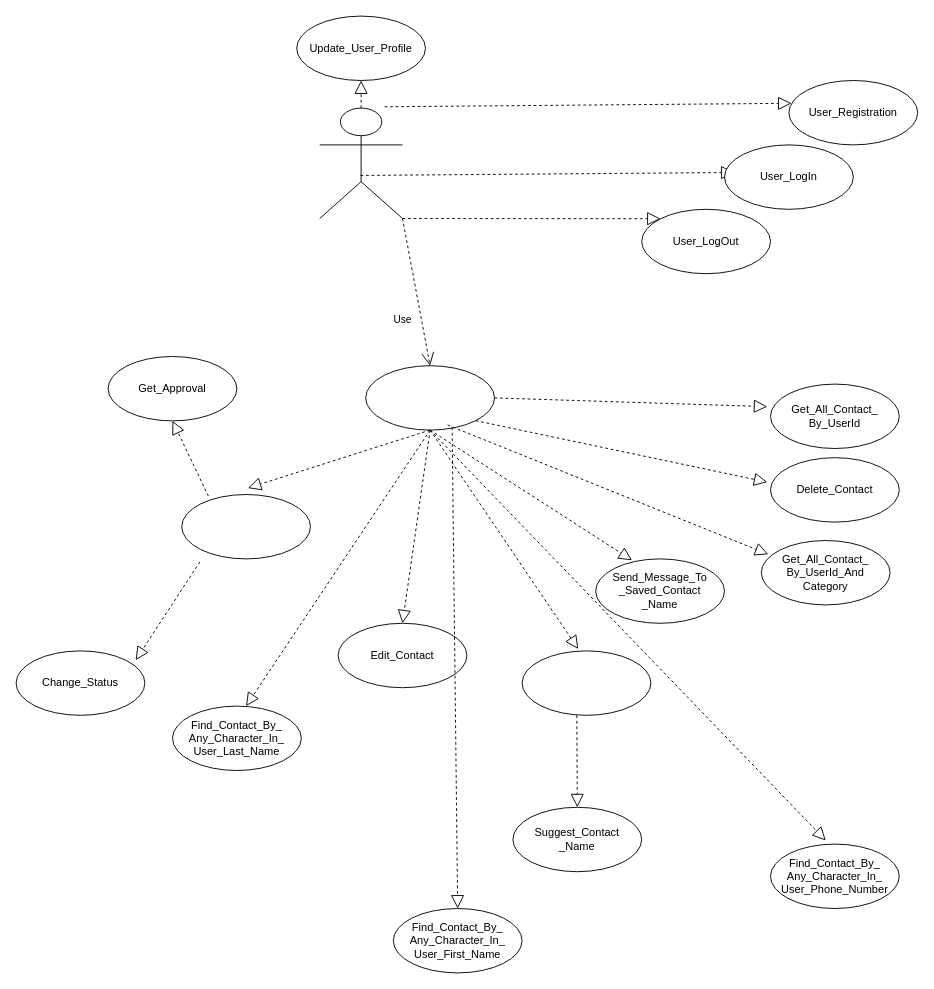
This 934x989 diagram has some shape labels left out. Here are the shapes that lost their labels. From the top down, the centre of each, then its label:
At point (360, 162): "User".
At point (429, 397): "Contact_Manager_App".
At point (245, 526): "Share_Contact".
At point (586, 682): "Create_Contact".
